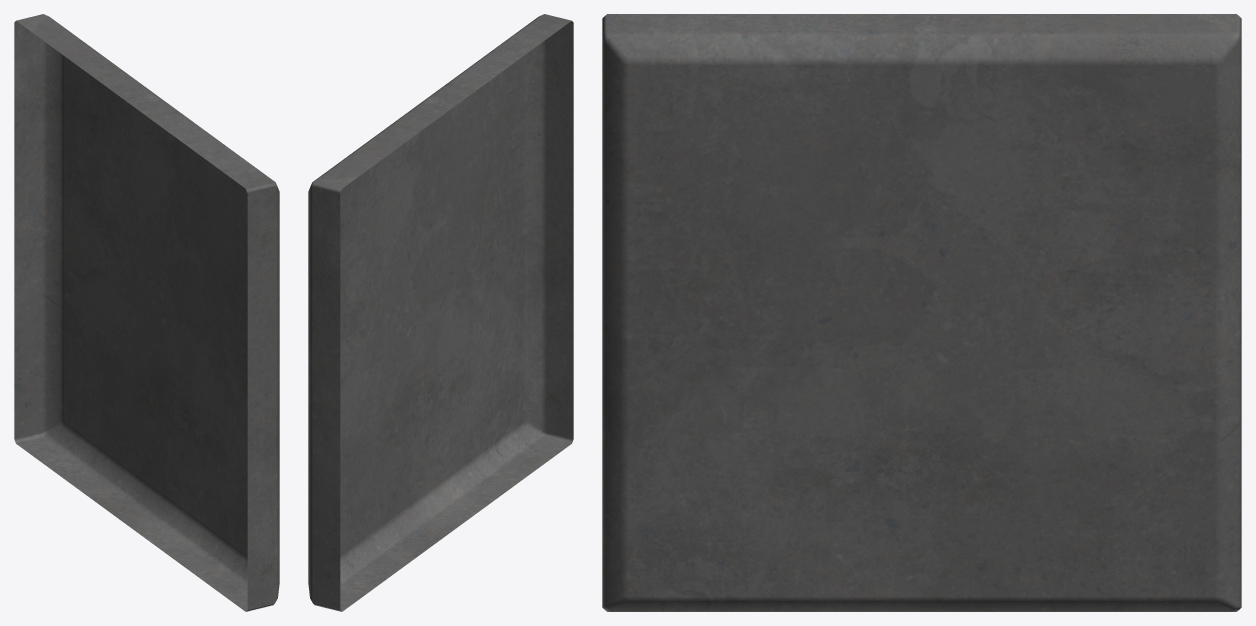
The model's file is cP_Pathway03_SteppingStoneSquare02_001.dae.
3 views of the same model, side by side, from view 1: azimuth 30°, elevation 25°; view 2: azimuth 150°, elevation 25°; view 3: azimuth 270°, elevation 25° (orthographic). The views are drawn at different scales.
Visible parts, largest first — view 1: cP_Pathway03_SteppingStoneSquare02.001; view 2: cP_Pathway03_SteppingStoneSquare02.001; view 3: cP_Pathway03_SteppingStoneSquare02.001.
Part boxes in pixels (x1,y1,x2,y2): cP_Pathway03_SteppingStoneSquare02.001: (14, 14, 279, 611); cP_Pathway03_SteppingStoneSquare02.001: (308, 14, 573, 611); cP_Pathway03_SteppingStoneSquare02.001: (602, 14, 1241, 611).
Size of the model in its own units: 0.0521 by 0.5191 by 0.5191.
